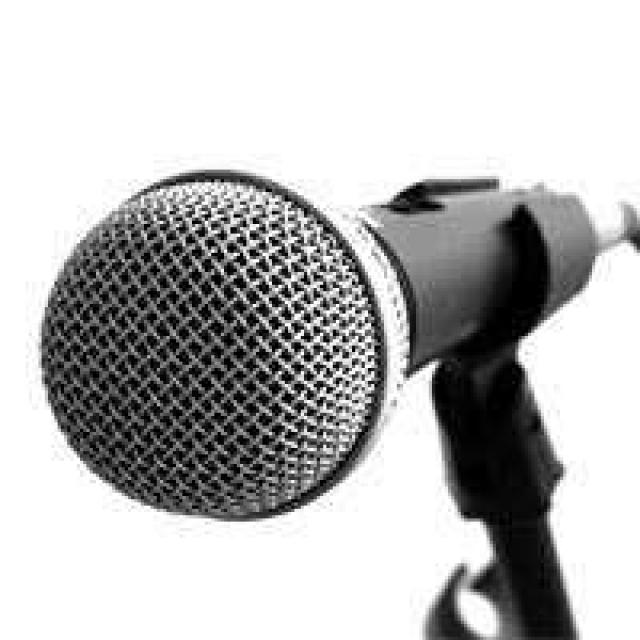microphone: (50, 170, 620, 518)
